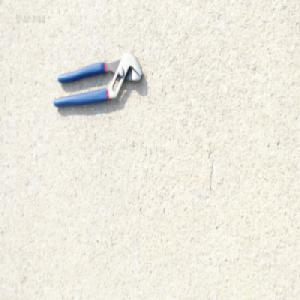Pliers: (51, 51, 143, 110)
